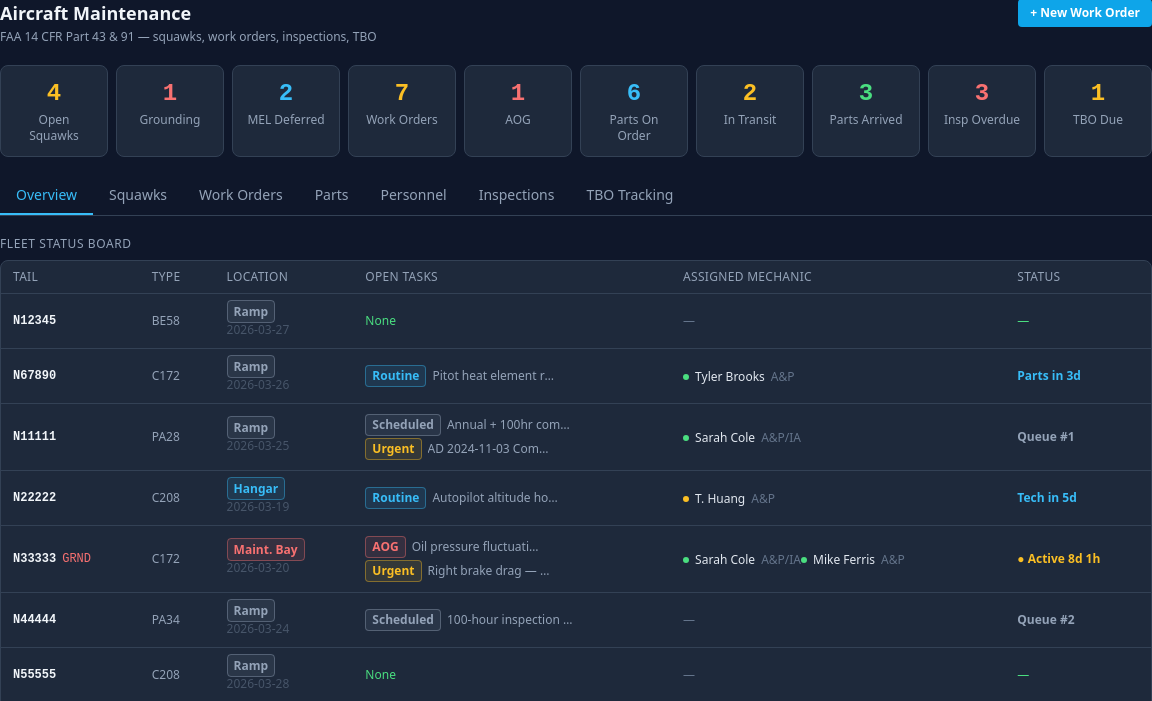
Test: <Maintenance /> Work Orders — personnel and certificates › shows supervising A&P label on WO cards
Click the tab "Work Orders" at (241, 196), box [183, 177, 299, 215]
(page scrolled)
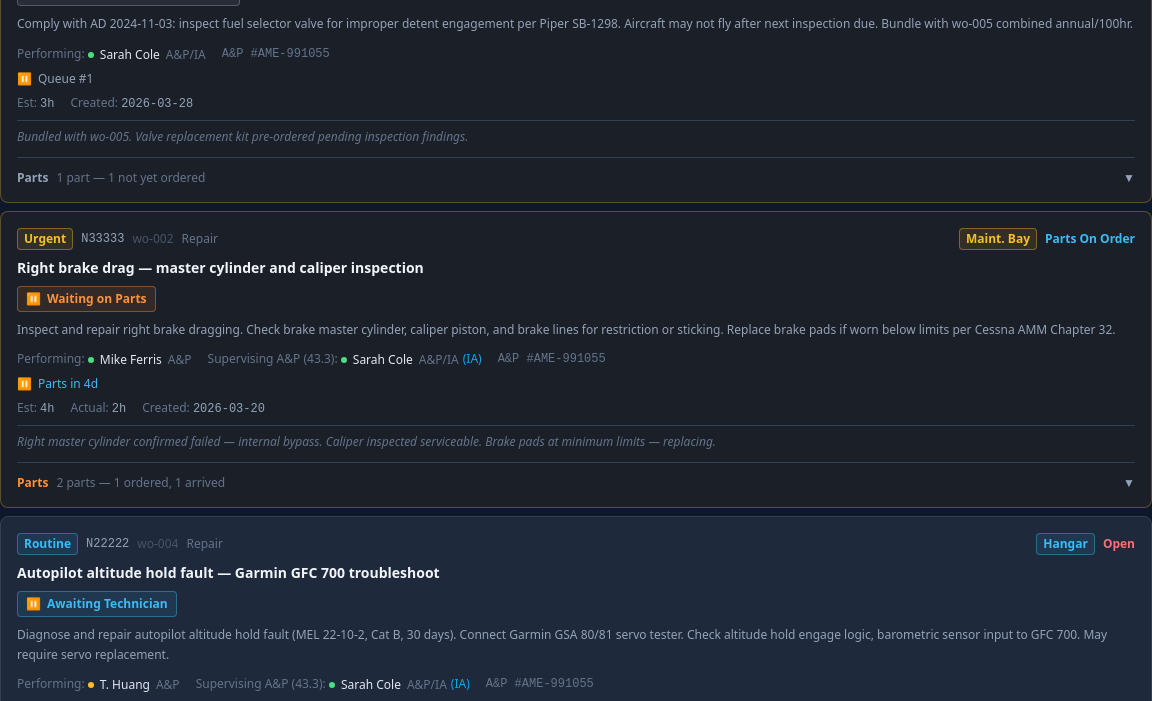
expect the text "Supervising A&P (43.3): Sarah Cole A&P/IA (IA)" is shown: met, box [208, 351, 482, 368]
